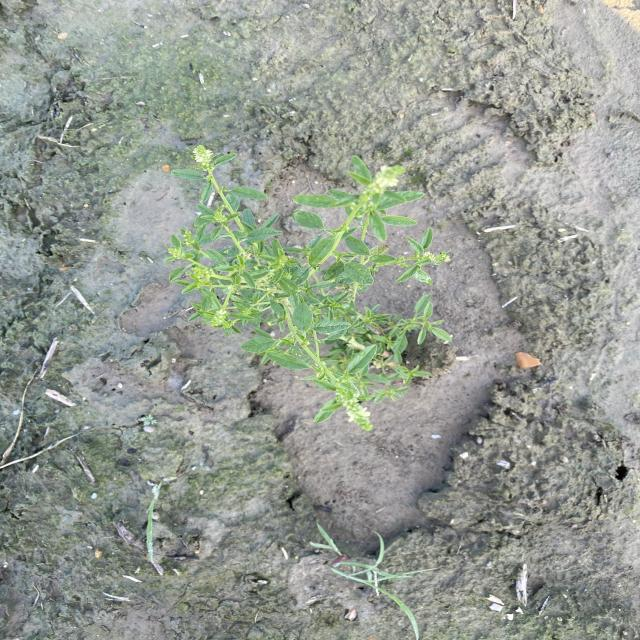Waterhemp: (160, 144, 455, 434)
